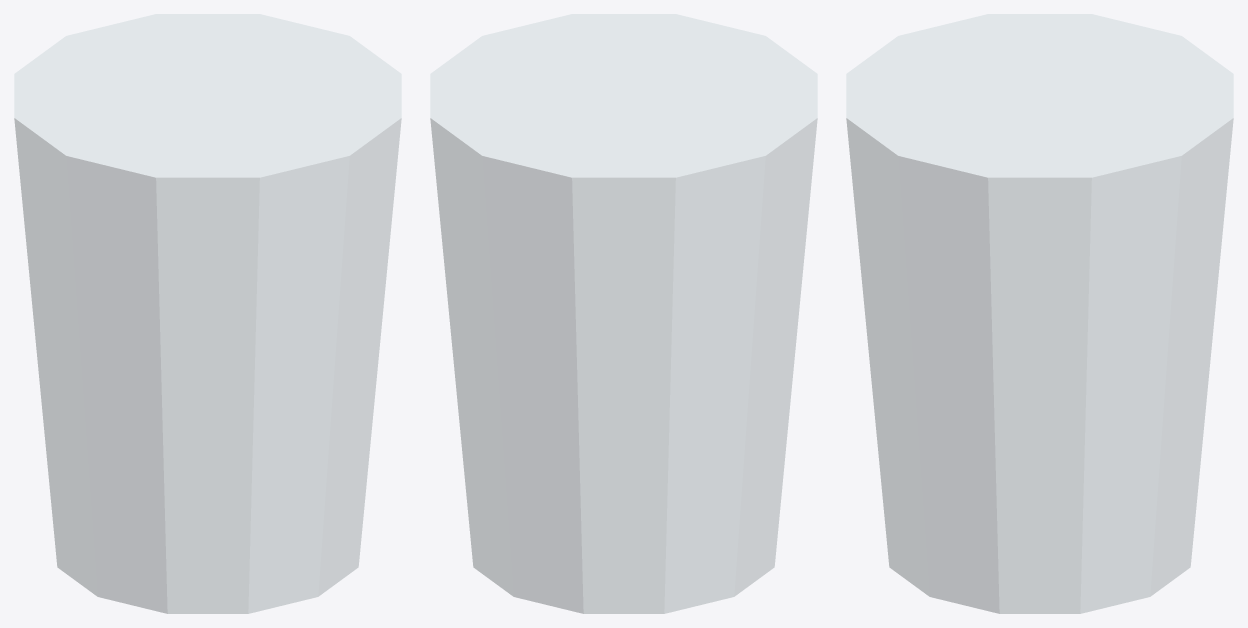
Rendered from cup_plastic.glb.
3 renders of one model, left to right at view 1: azimuth 30°, elevation 25°; view 2: azimuth 150°, elevation 25°; view 3: azimuth 270°, elevation 25°, orthographic.
Parts seen in each view (by area): view 1: block_cup; view 2: block_cup; view 3: block_cup.
Boxes of the visible parts, x1,y1,x2,y2 form: block_cup: (14,14,401,613); block_cup: (430,14,817,613); block_cup: (846,14,1233,613).
Size of the model in its own units: 0.0695 by 0.09 by 0.0695.
1 material, 1 textured.
